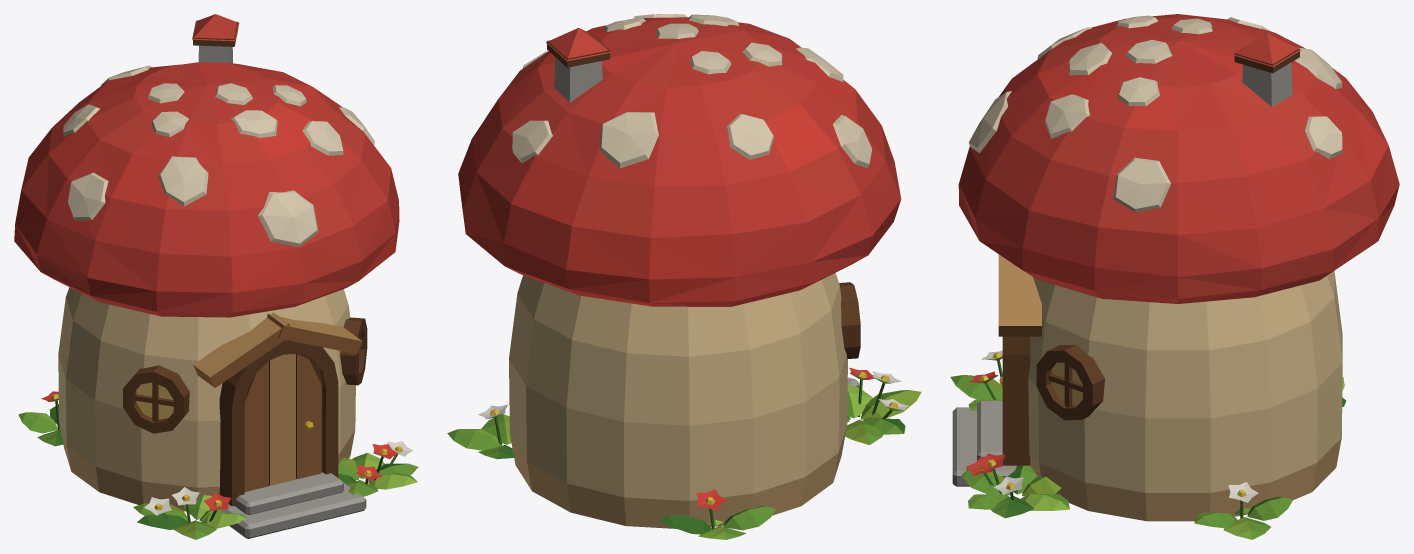
Rendered from mushroom_cottage.glb.
3 renders of one model, left to right at view 1: azimuth 30°, elevation 25°; view 2: azimuth 150°, elevation 25°; view 3: azimuth 270°, elevation 25°, orthographic. The views are drawn at different scales.
Visible parts, largest first — view 1: mushroom_cottage; view 2: mushroom_cottage; view 3: mushroom_cottage.
Boxes of the visible parts, left/top/right/bottom form: mushroom_cottage: left=14, top=14, right=418, bottom=539; mushroom_cottage: left=447, top=14, right=921, bottom=539; mushroom_cottage: left=950, top=14, right=1399, bottom=539.
Bounding box in the file's own units: 2.36 × 2.63 × 2.39.
